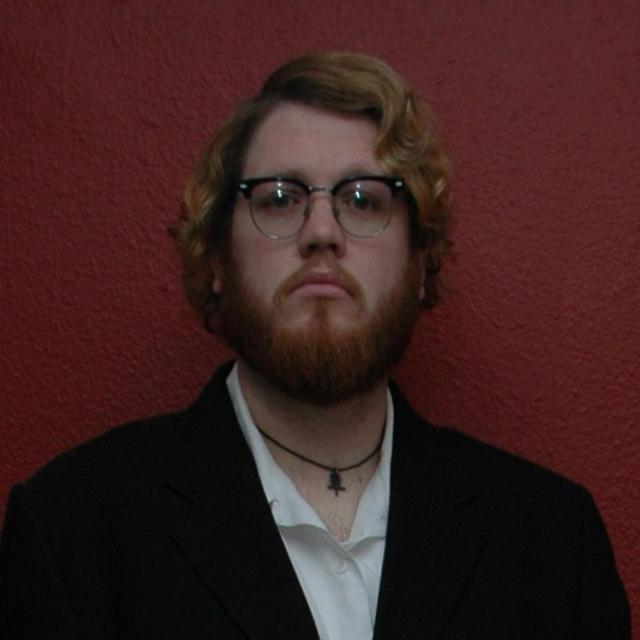open: (327, 157, 400, 230), (241, 156, 315, 227)
